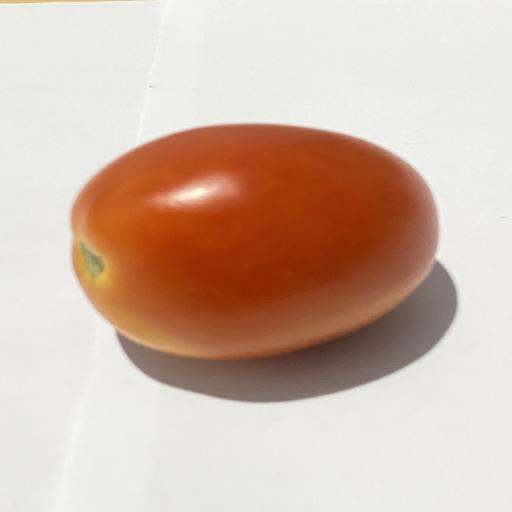ripe: (72, 124, 438, 359)
